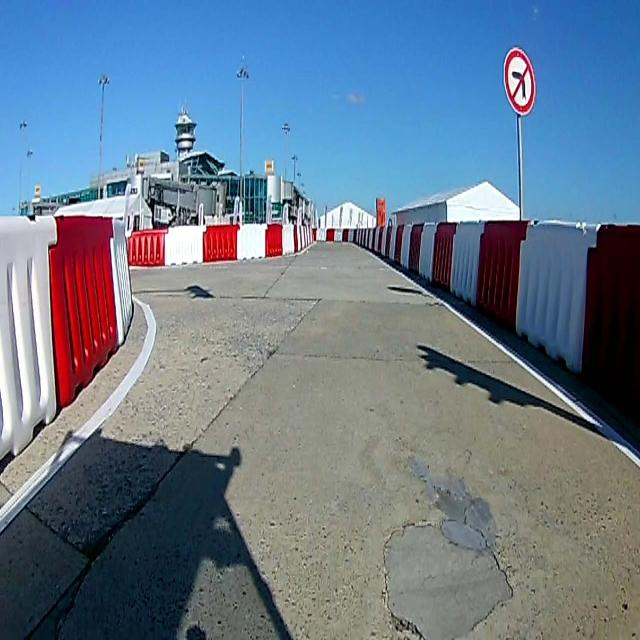soladonulmez: (503, 45, 537, 120)
